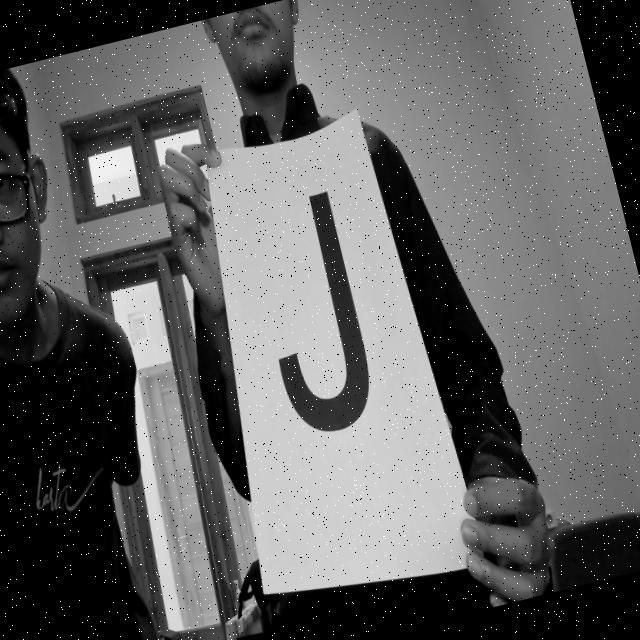j: (232, 178, 406, 469)
